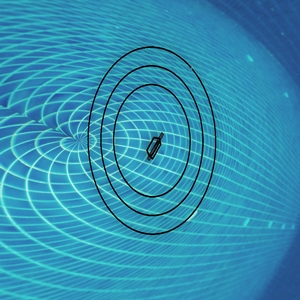circle: (85, 39, 215, 235)
submarine: (148, 133, 166, 163)
